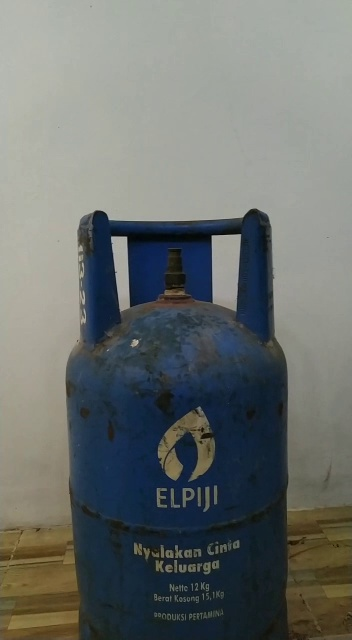blue_gas: (64, 208, 289, 640)
